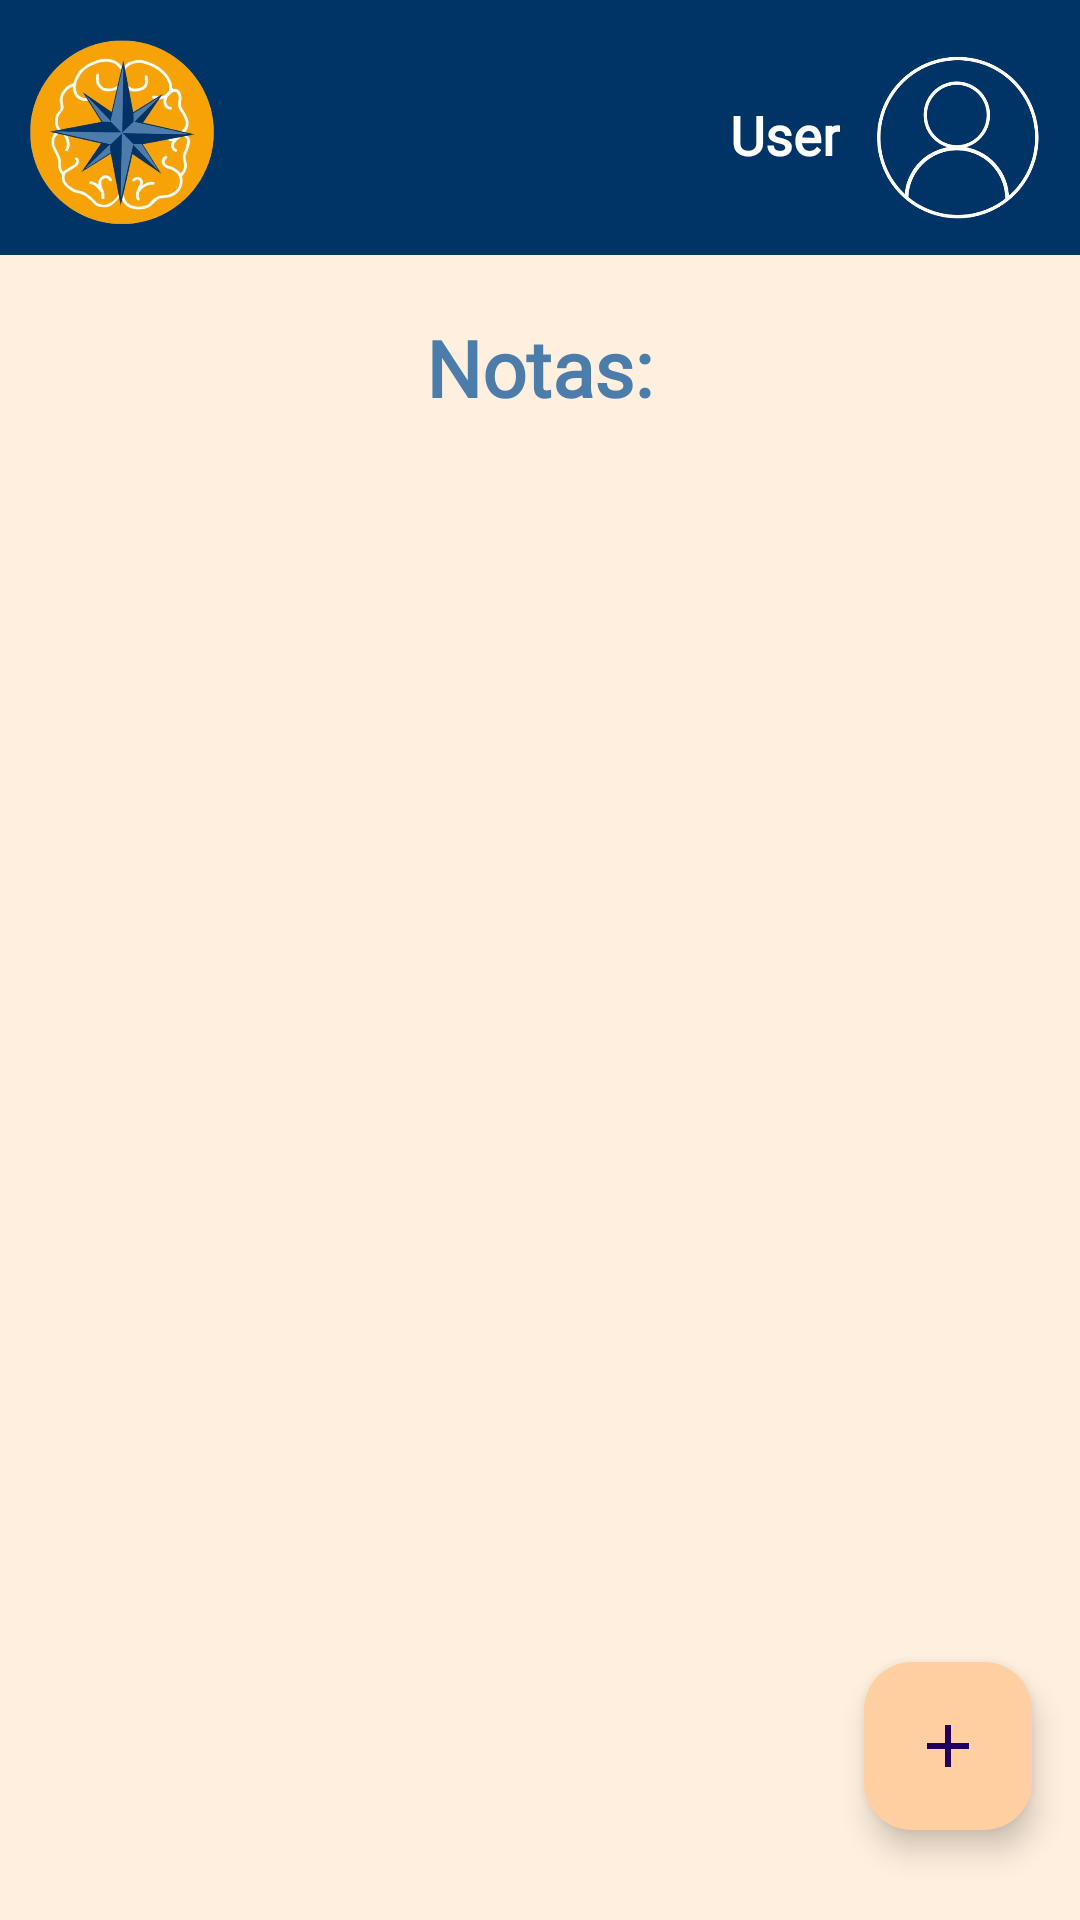

Screen size 1080px x 1920px. Icon name, then its box in pixels as (x1, y1, x2, y2):
add: (864, 1662, 1032, 1830)
perfil: (877, 57, 1039, 219)
